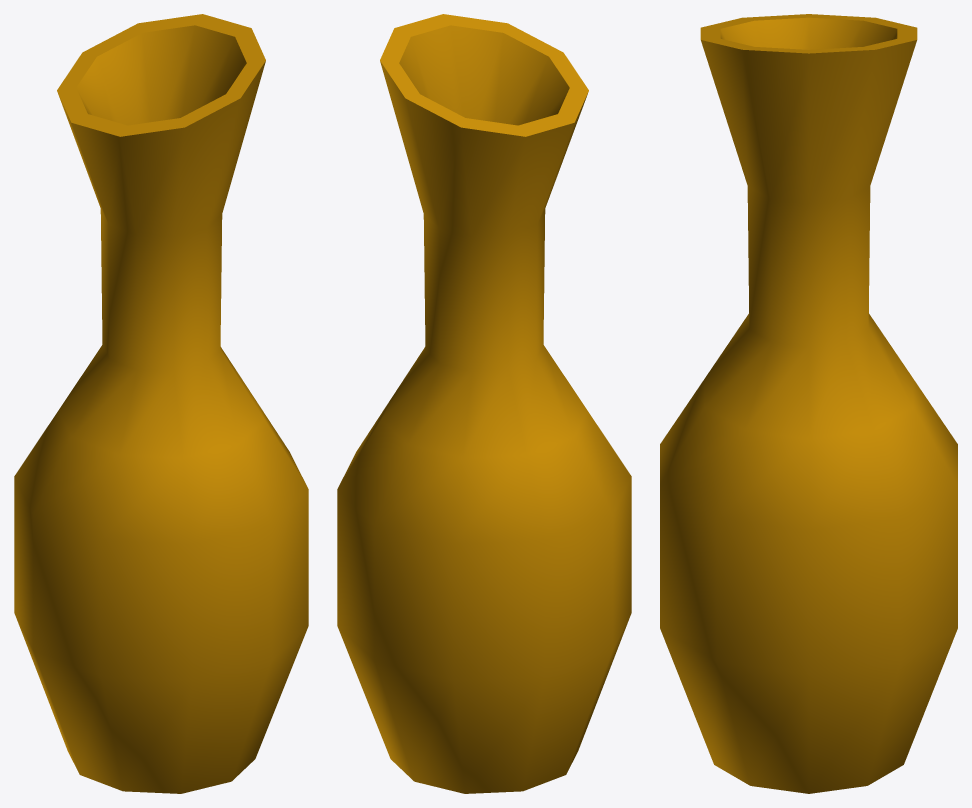
The model's file is SM_Vase_C.fbx.
3 views of the same model, side by side, from view 1: azimuth 30°, elevation 25°; view 2: azimuth 150°, elevation 25°; view 3: azimuth 270°, elevation 25° (orthographic). The views are drawn at different scales.
Visible parts, largest first — view 1: SM_Vase_C; view 2: SM_Vase_C; view 3: SM_Vase_C.
Boxes of the visible parts, bbox=[...] form: SM_Vase_C: bbox=[14, 14, 308, 793]; SM_Vase_C: bbox=[337, 14, 631, 793]; SM_Vase_C: bbox=[660, 14, 957, 793].
Size of the model in its own units: 32.36 by 84.94 by 30.77.
